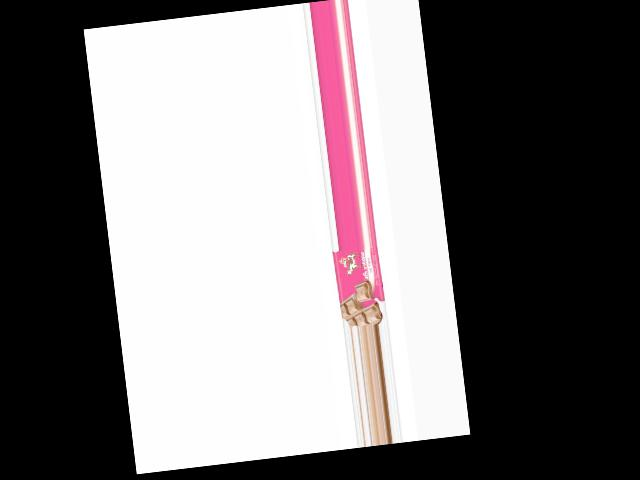chocolate: (332, 245, 387, 327)
